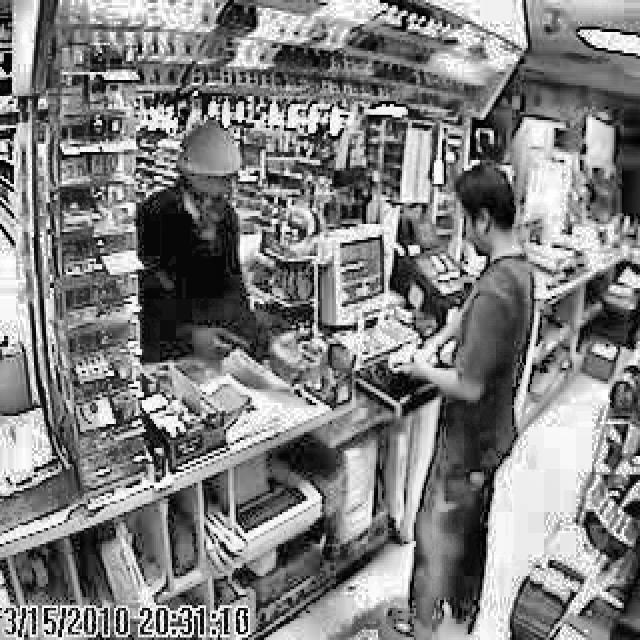robbery: (138, 122, 326, 380)
